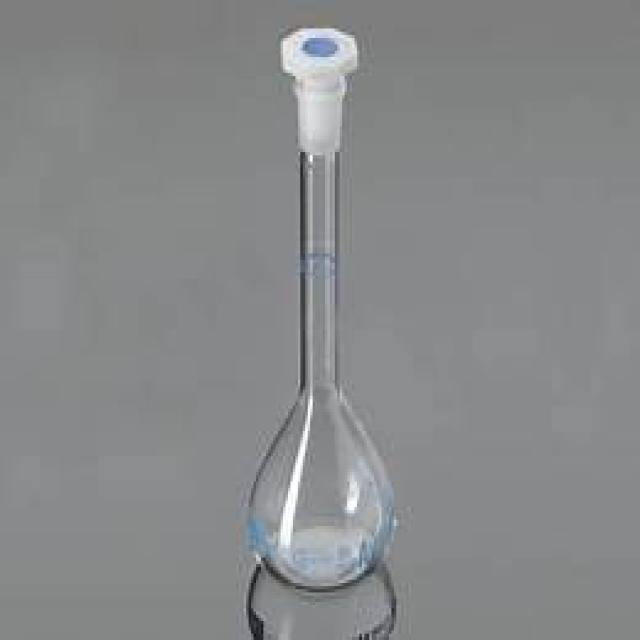Volumetric flask: (229, 16, 397, 591)
